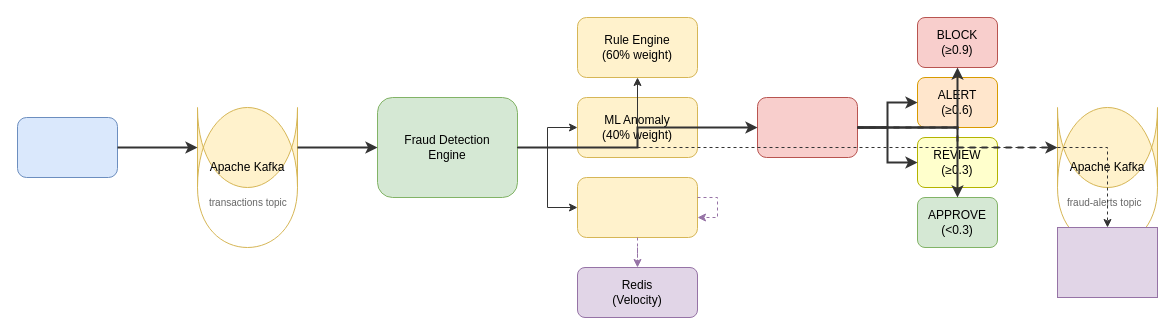
The diagram is 1175 pixels wide and 335 high, and some of its shapes have lost their labels. Here are the shapes that lost their labels. From the top down, the centre of each, then its label:
At pixel 67 147: "Banking Services".
At pixel 807 127: "Decision Engine".
At pixel 637 207: "Velocity Check (Redis)".
At pixel 1107 262: "H2 / PostgreSQL (Fraud Alerts)".
